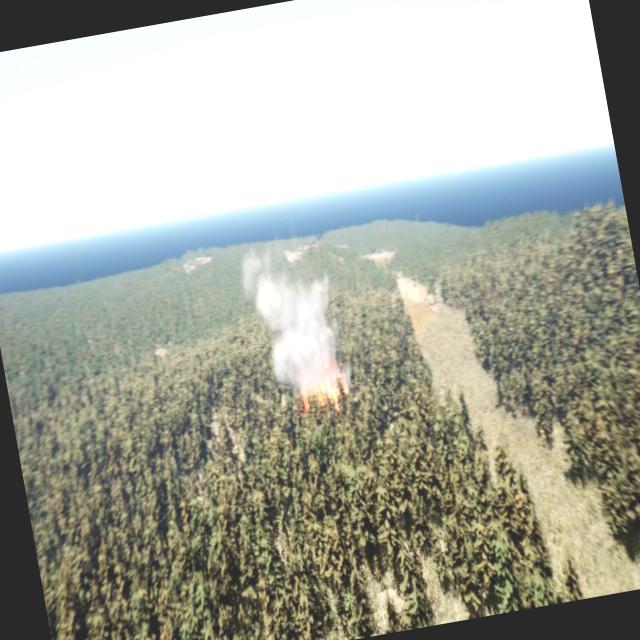fire: (294, 359, 352, 421)
smoke: (232, 223, 348, 394)
